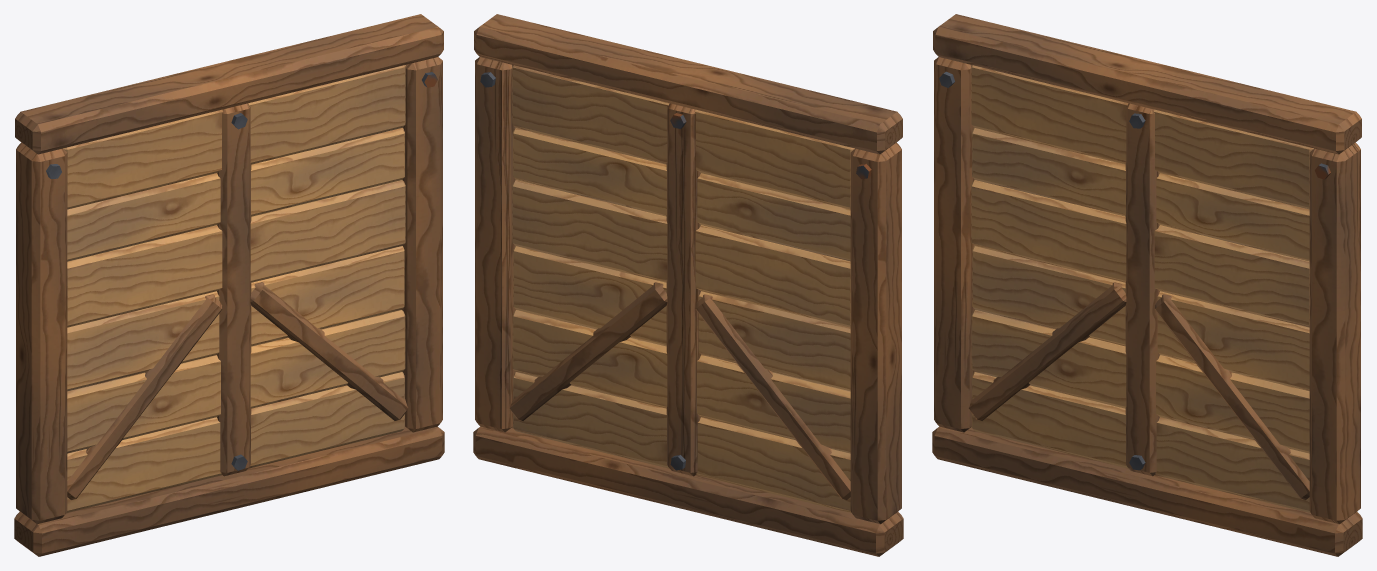
The model's file is duvar.glb.
3 views of the same model, side by side, from view 1: azimuth 30°, elevation 25°; view 2: azimuth 150°, elevation 25°; view 3: azimuth 330°, elevation 25° (orthographic).
Parts seen in each view (by area): view 1: duvar; view 2: duvar; view 3: duvar.
Part boxes in pixels (x1,y1,x2,y2): duvar: (14,14,444,556); duvar: (473,14,903,556); duvar: (932,14,1362,556).
Size of the model in its own units: 3 by 3.01 by 0.35.
Materials: 1 (1 with a texture image).
